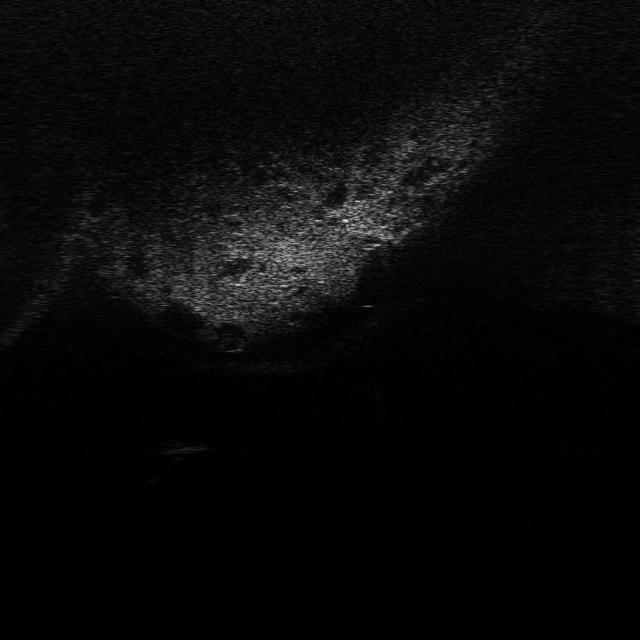ball: (349, 299, 388, 328)
cube: (150, 430, 214, 456)
